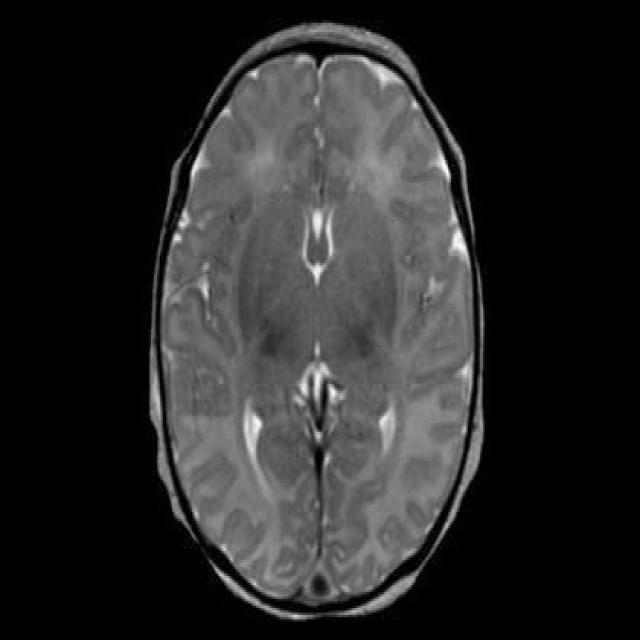notumor: (151, 23, 483, 619)
